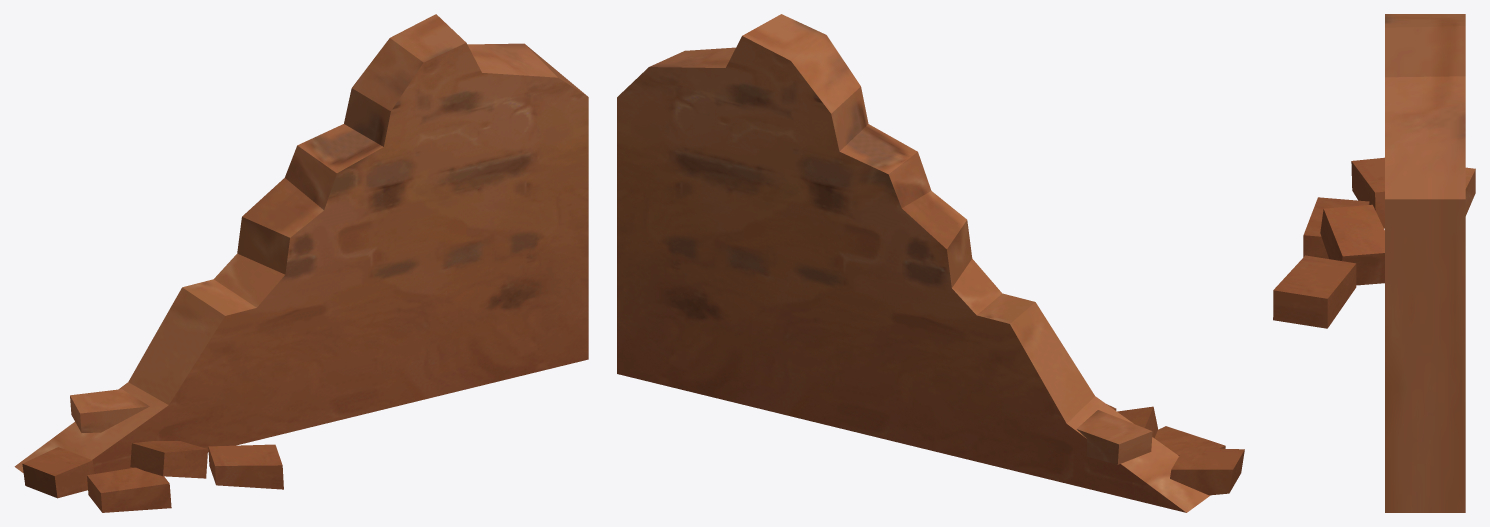
File: oBldWalDirt01B.FBX
The picture shows the model from 3 angles, left to right: view 1: azimuth 30°, elevation 25°; view 2: azimuth 150°, elevation 25°; view 3: azimuth 270°, elevation 25°; orthographic projection. The views are drawn at different scales.
Visible parts, largest first — view 1: oBldWalDirt01B; view 2: oBldWalDirt01B; view 3: oBldWalDirt01B.
Boxes of the visible parts, box(x1,y1,x2,y2) form: oBldWalDirt01B: box(14, 14, 588, 512); oBldWalDirt01B: box(617, 14, 1244, 512); oBldWalDirt01B: box(1273, 14, 1475, 512).
Bounding box in the file's own units: 20.67 × 12.85 × 5.44.
1 material, 1 textured.
